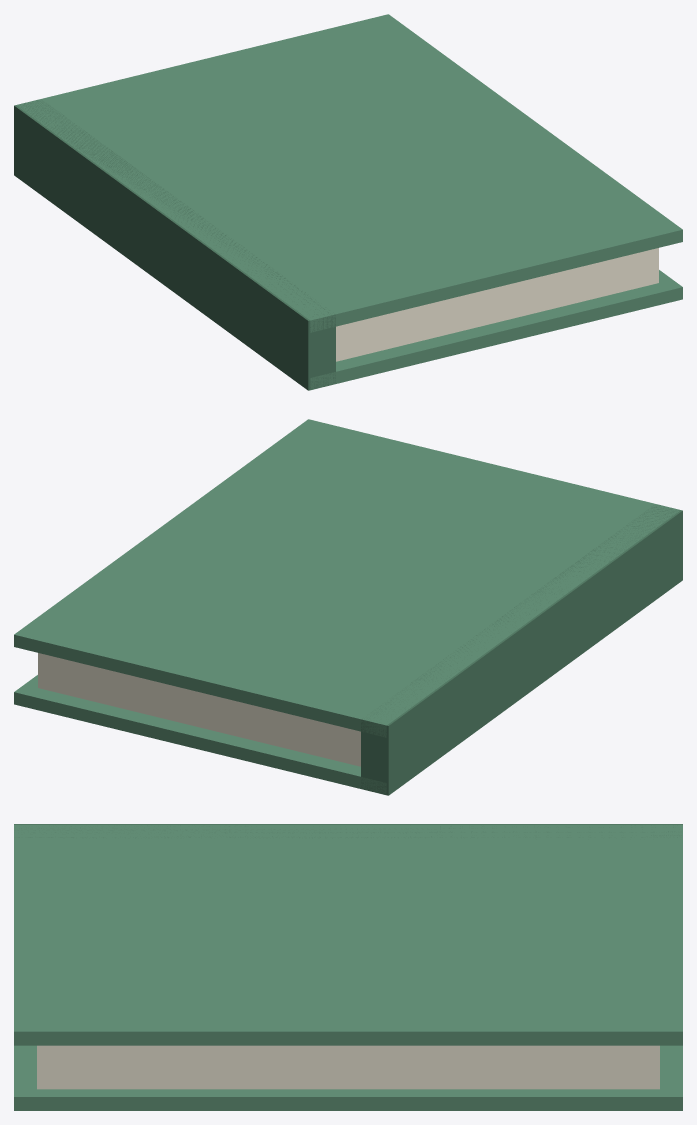
The model's file is 奶蛋日记.glb.
3 views of the same model, one above another, from view 1: azimuth 30°, elevation 25°; view 2: azimuth 150°, elevation 25°; view 3: azimuth 270°, elevation 25° (orthographic). The views are drawn at different scales.
Visible parts, largest first — view 1: 奶蛋日记; view 2: 奶蛋日记; view 3: 奶蛋日记.
Boxes of the visible parts, x1,y1,x2,y2 form: 奶蛋日记: [14, 14, 682, 390]; 奶蛋日记: [14, 419, 682, 795]; 奶蛋日记: [14, 824, 682, 1110].
Bounding box in the file's own units: 0.191 × 0.034 × 0.26.
